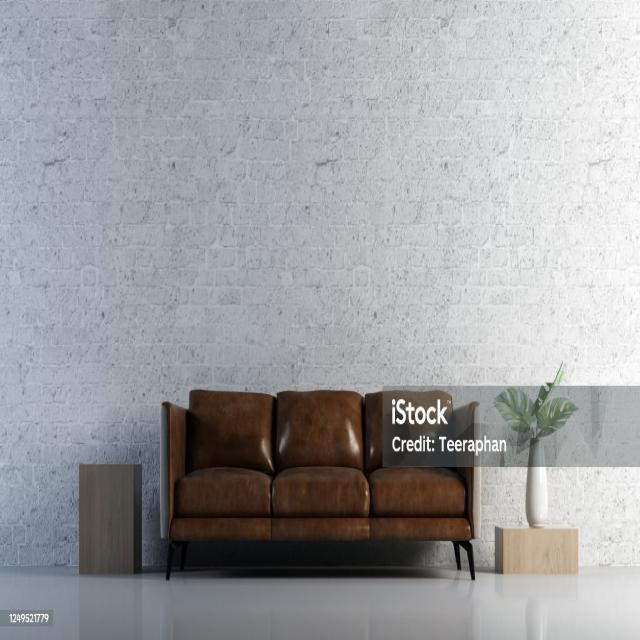back_cushion: (187, 390, 456, 474)
base: (169, 517, 470, 541)
left_arm: (457, 452, 481, 538), (453, 402, 480, 437)
legs: (166, 542, 188, 580), (453, 541, 474, 580)
right_arm: (161, 402, 186, 536)
seat_cushion: (174, 467, 467, 517)
stallion-sofa: (161, 390, 481, 577)
